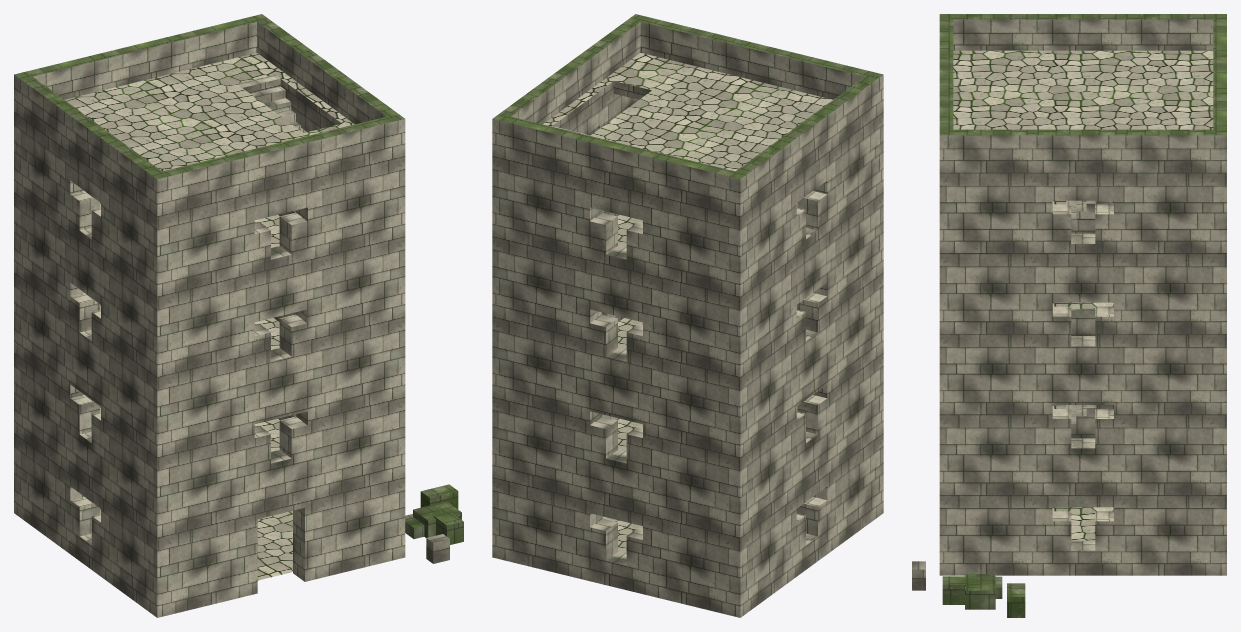
Rendered from ruin-tower.ruins-v1.lod0.glb.
3 views of the same model, side by side, from view 1: azimuth 30°, elevation 25°; view 2: azimuth 150°, elevation 25°; view 3: azimuth 270°, elevation 25° (orthographic).
Visible parts, largest first — view 1: ruin-tower; view 2: ruin-tower; view 3: ruin-tower.
Part boxes in pixels (box(x1,y1,x2,y2)): ruin-tower: box(14, 14, 463, 617); ruin-tower: box(492, 14, 883, 617); ruin-tower: box(912, 14, 1226, 617).
Size of the model in its own units: 11.33 by 14.2 by 9.21.
Materials: 3 (3 with a texture image).
